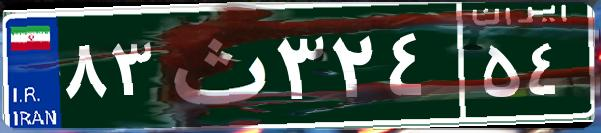2: (330, 28, 385, 110)
3: (273, 28, 330, 110), (110, 28, 158, 105)
4: (385, 28, 445, 110), (525, 38, 570, 115)
5: (475, 38, 525, 113)
8: (57, 26, 110, 107)
ث: (158, 15, 273, 115)
